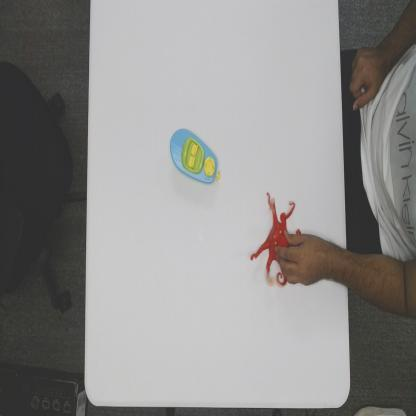Arm: (330, 240, 404, 312)
Boat: (169, 127, 220, 184)
Hand: (276, 230, 328, 292)
Octopus: (256, 191, 304, 286)
